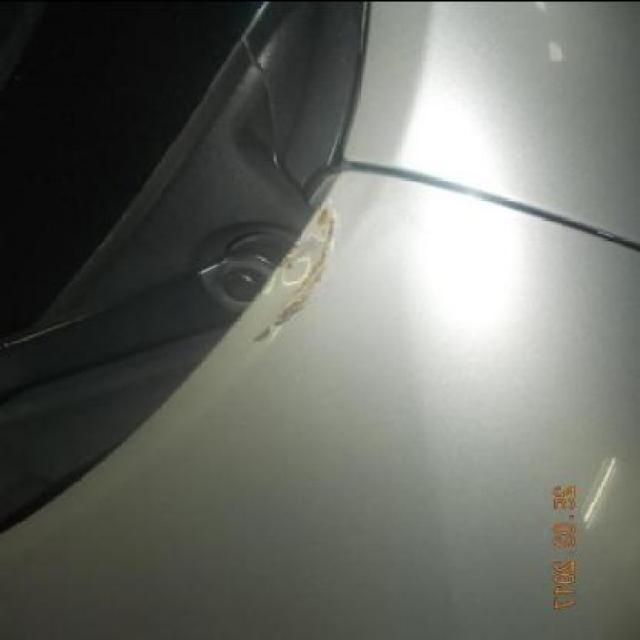damage: (247, 203, 340, 351)
